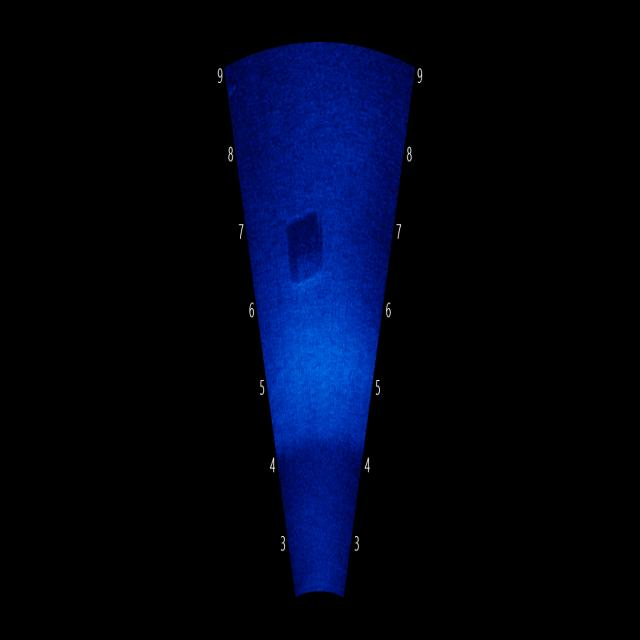square: (275, 179, 339, 305)
